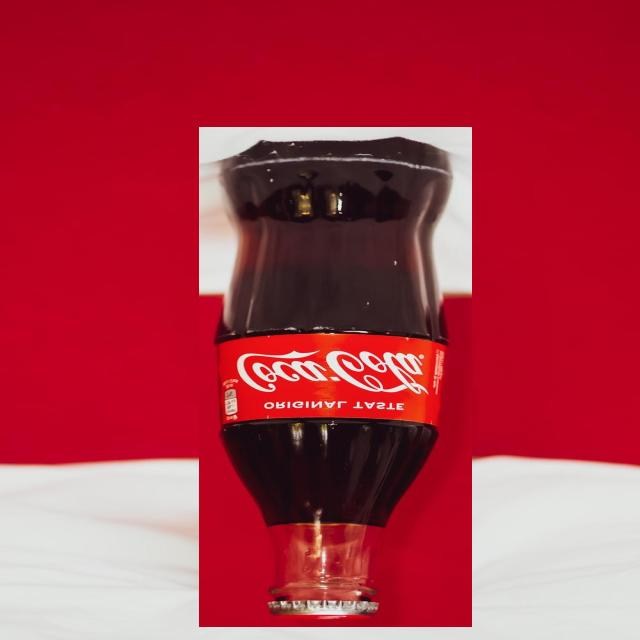coca-cola: (199, 127, 472, 627)
